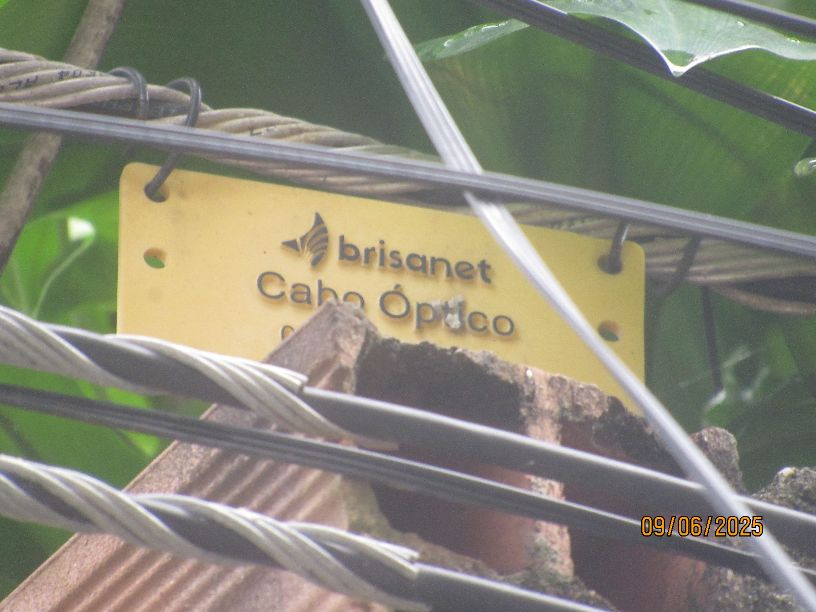fibra_optica: (98, 129, 669, 460)
